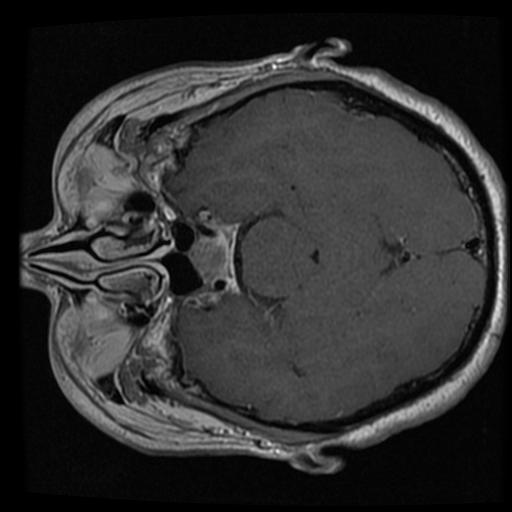pituitary tumour: (190, 236, 228, 281)
